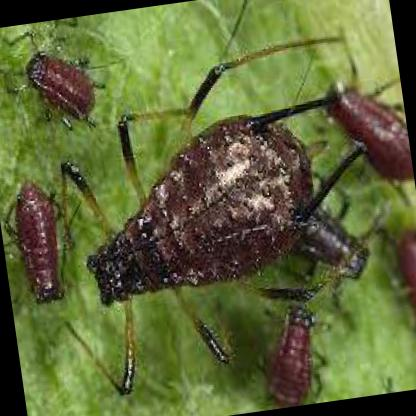uroleucon compositae: (65, 64, 364, 394)
